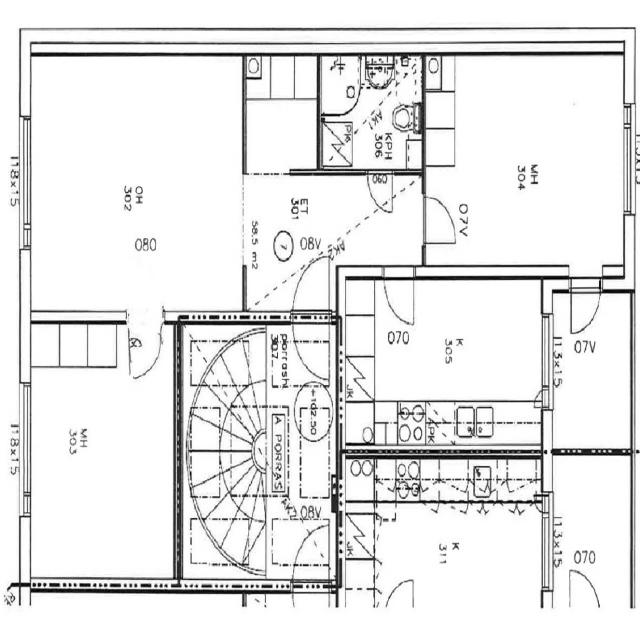door: (126, 310, 164, 380), (292, 310, 329, 380), (292, 255, 329, 324), (570, 266, 601, 337), (384, 266, 414, 324), (422, 195, 456, 242), (367, 168, 392, 212)
